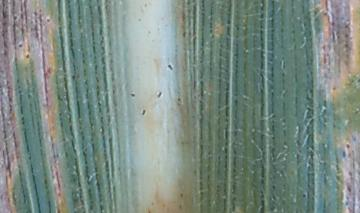tarspot: (24, 53, 31, 60), (44, 16, 51, 23), (12, 15, 19, 22), (301, 192, 307, 199), (345, 143, 351, 149), (18, 43, 23, 49)
